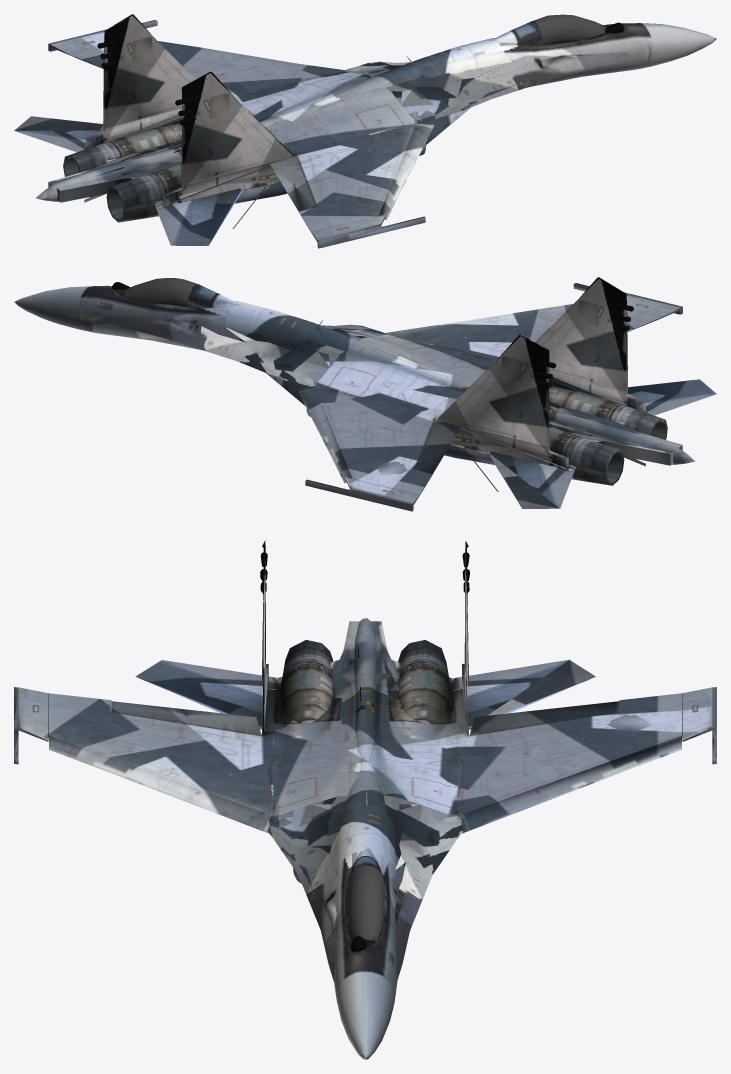
3 renders of one model, top to bottom at view 1: azimuth 30°, elevation 25°; view 2: azimuth 150°, elevation 25°; view 3: azimuth 270°, elevation 25°, orthographic. The views are drawn at different scales.
Visible parts, largest first — view 1: g_su35_hull; view 2: g_su35_hull; view 3: g_su35_hull.
Part boxes in pixels (x1,y1,x2,y2): g_su35_hull: (14, 14, 716, 248); g_su35_hull: (14, 277, 716, 511); g_su35_hull: (14, 540, 716, 1059).
Bounding box in the file's own units: 21.9 × 4.98 × 15.07.
Materials: 1 (1 with a texture image).
